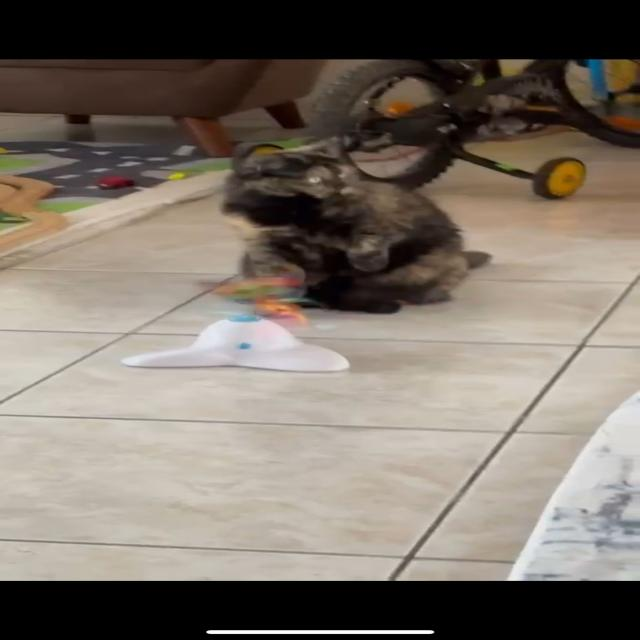authorized: (217, 134, 492, 314)
